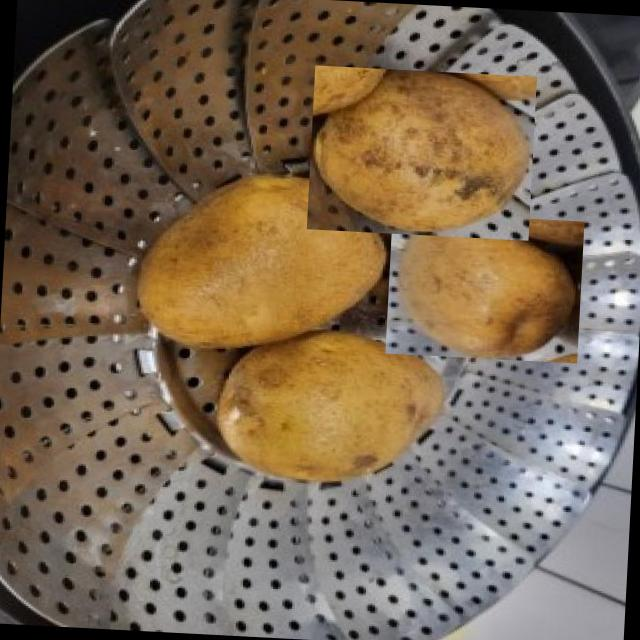Potato: (132, 168, 394, 362), (306, 66, 536, 240), (210, 333, 456, 493), (384, 212, 584, 364)
